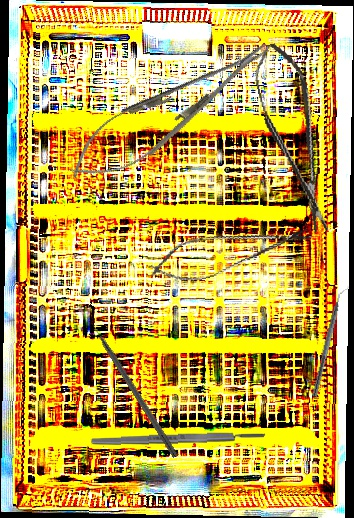Chopper: (311, 283, 351, 400)
Hook Surgical: (86, 315, 181, 459)
Micro Scissor: (248, 38, 340, 239), (144, 211, 316, 292)
Needle Holder: (57, 25, 283, 198)
Scalpel Handle: (89, 430, 267, 447)
